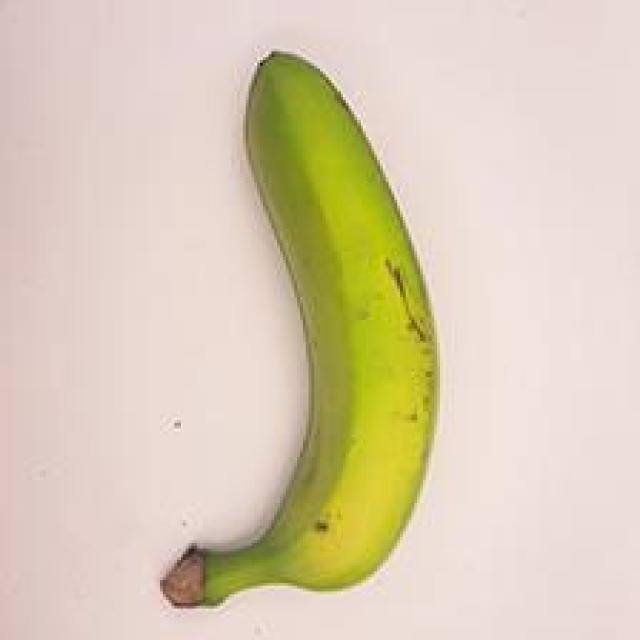Unripe: (147, 31, 460, 620)
